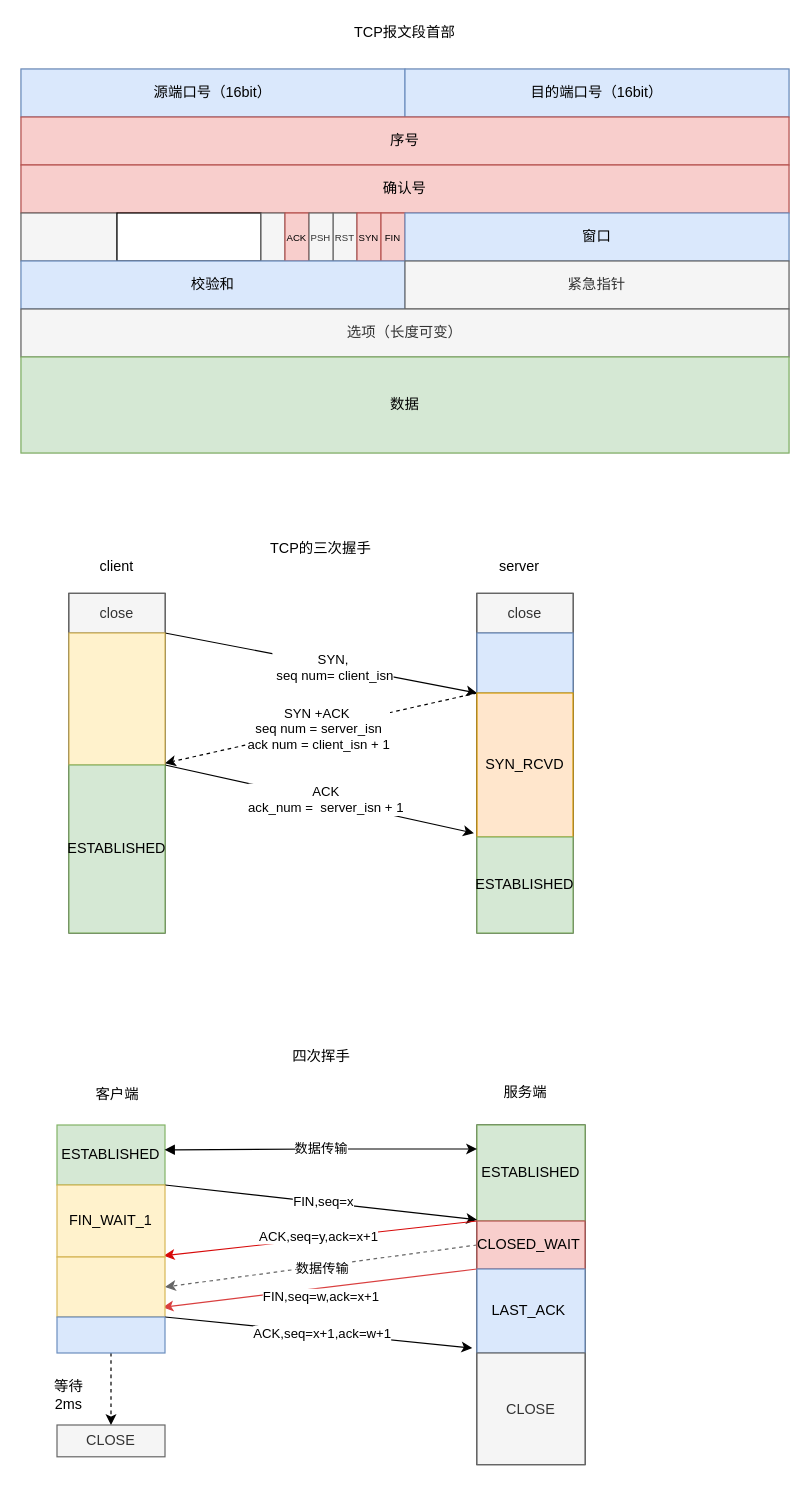
Image size: 810x1486. Some labels were removed from this diagram. The box of each missing label's shape, as (x1, y1, x2, y2) in pixels:
FIN_WAIT_2: (56, 1256, 165, 1317)
LISTEN: (476, 632, 573, 693)
SYN-SENT: (68, 632, 165, 765)
TIME_WAIT: (56, 1316, 165, 1353)
URG: (260, 212, 285, 261)
保留字段: (116, 212, 261, 261)
数据偏移: (20, 212, 117, 261)
